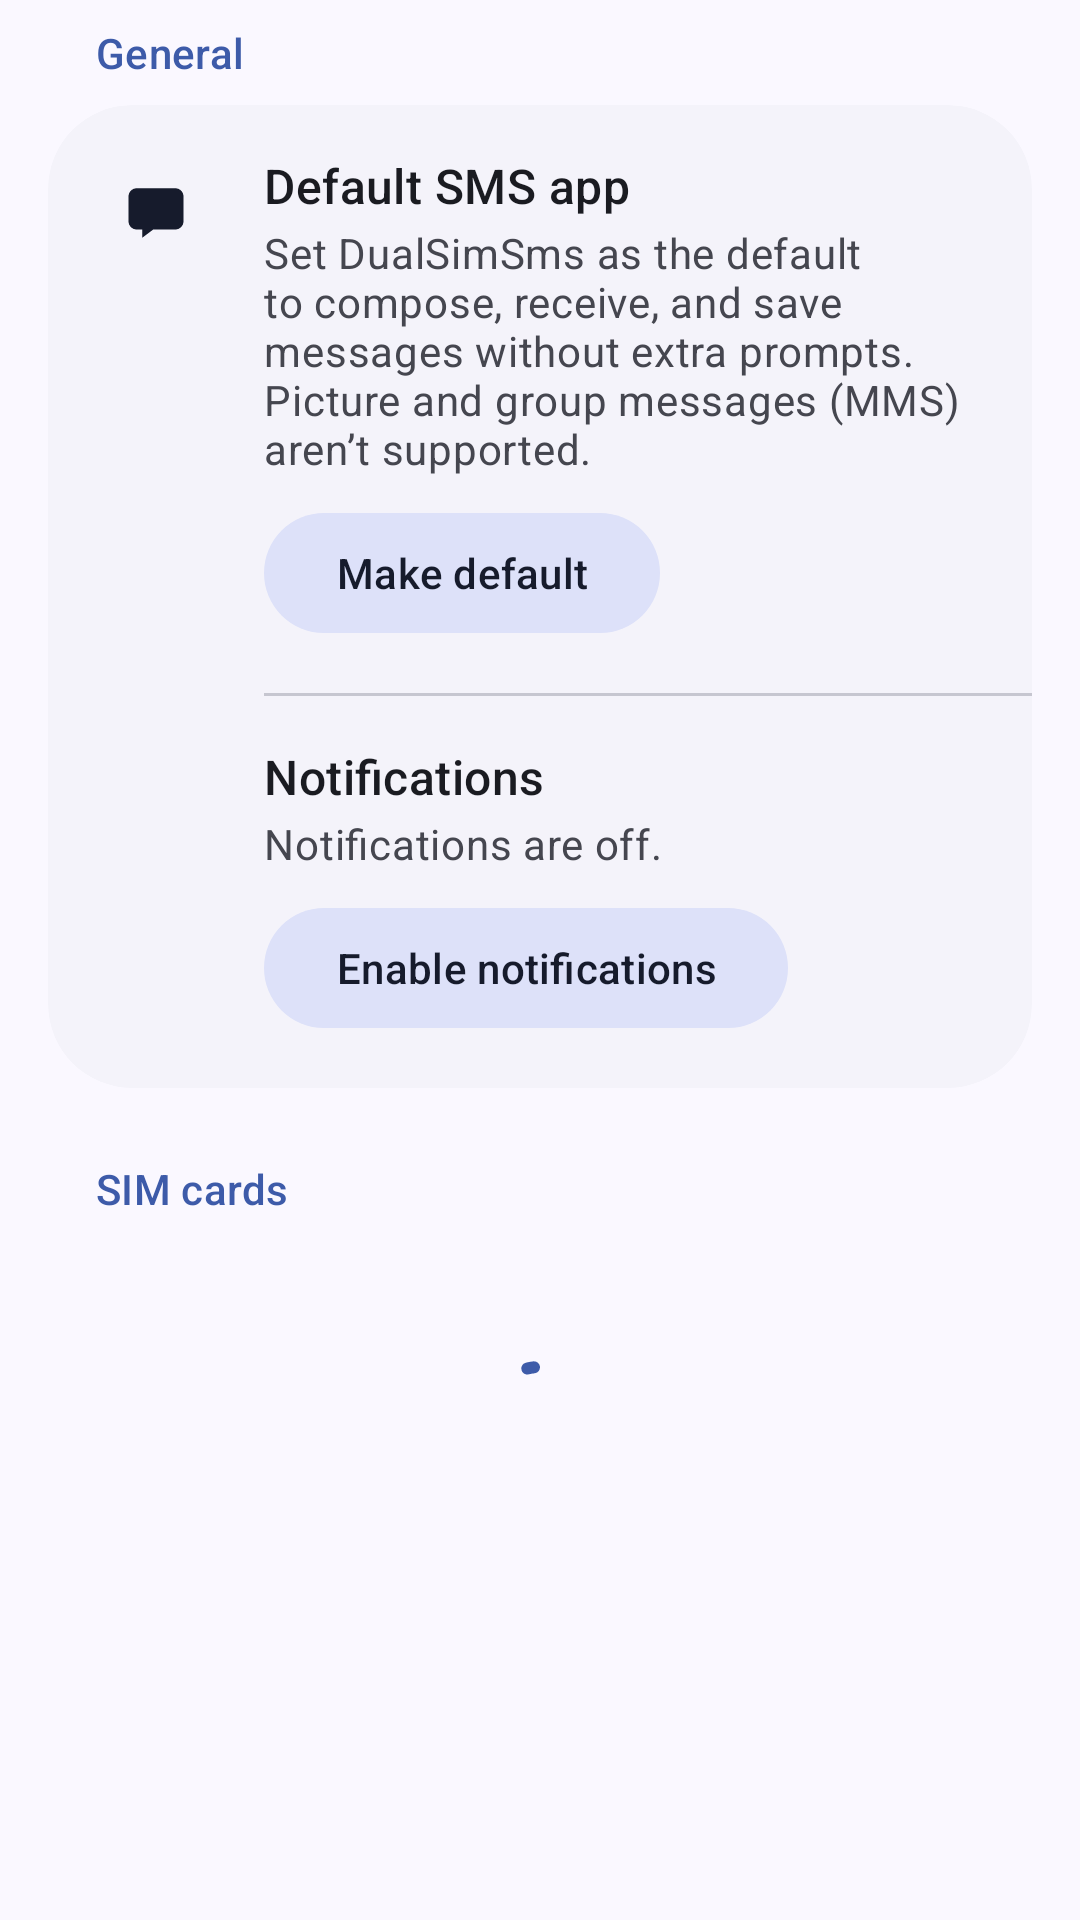

Screen size 1080px×1920px. Icon name, then its center in pixels as (x=x, y=y):
chat box: (x=156, y=213)
